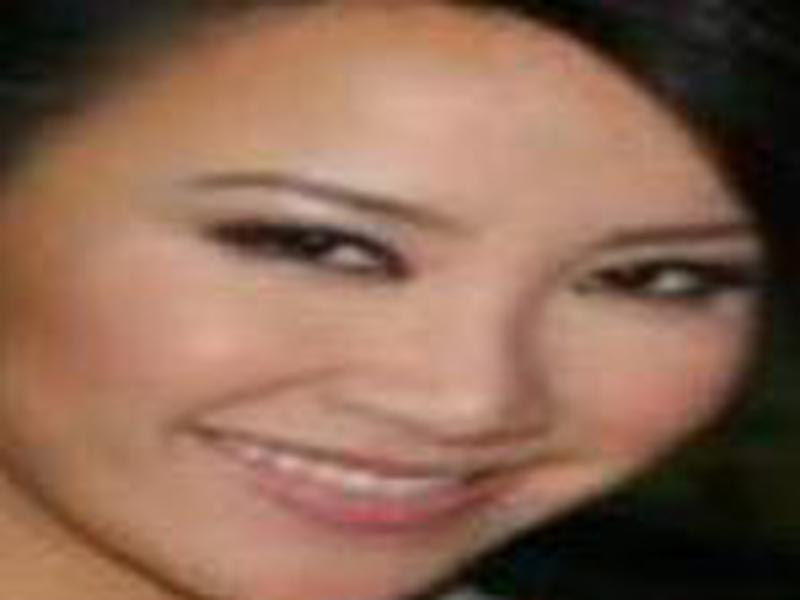without_mask: (6, 10, 768, 600)
